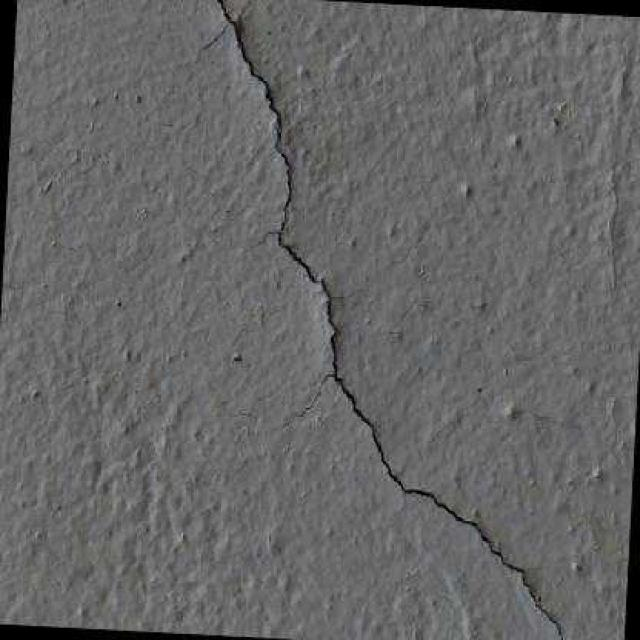D00: (206, 0, 572, 640)
